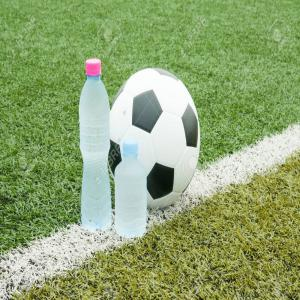Plastic-bottle: (79, 58, 112, 229), (115, 141, 148, 241)
